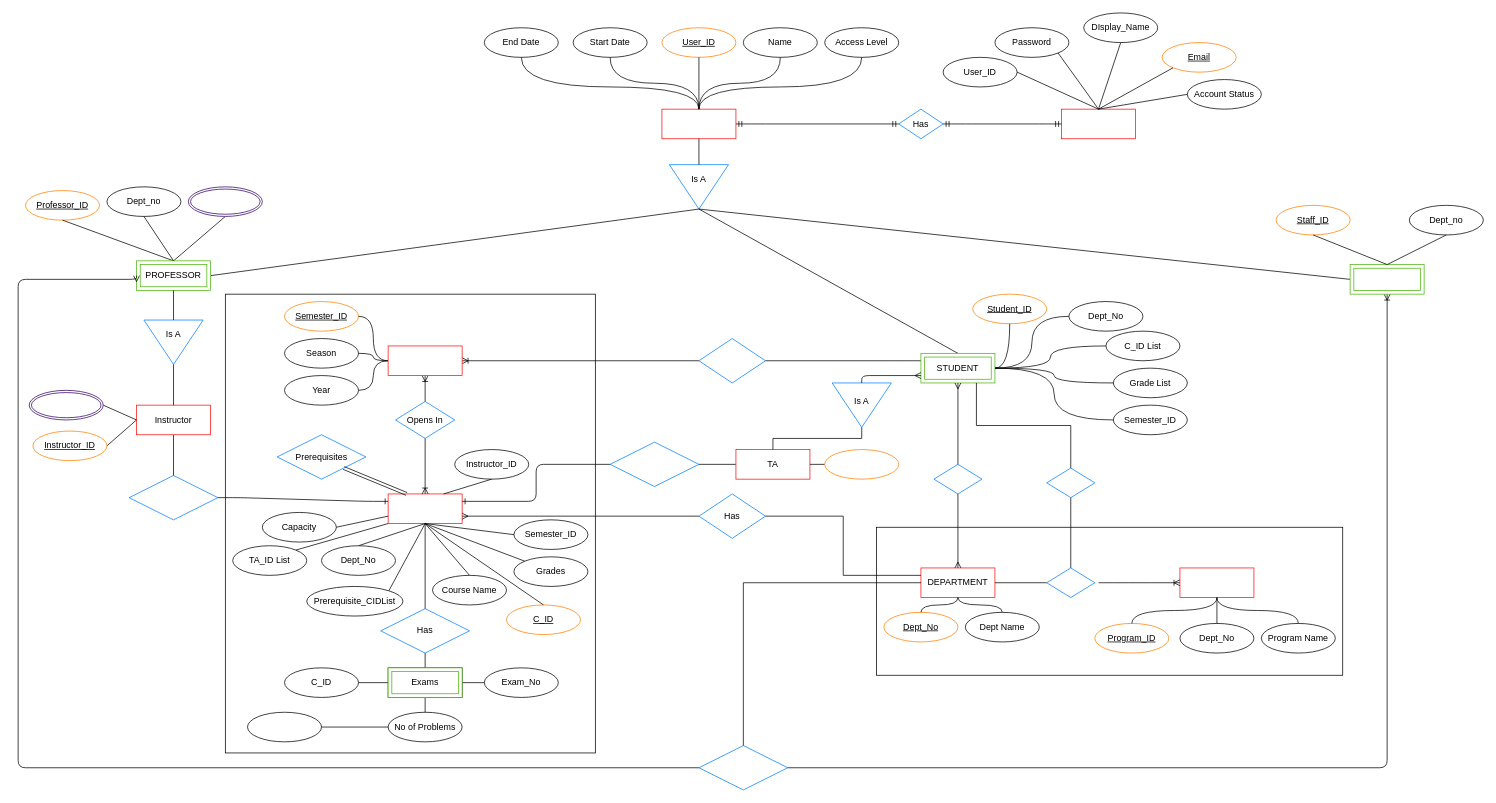
Some shapes in this 1496 by 803 pixel diagram are drawn without their labels. Here are the shapes that lost their labels. From the top down, the centre of each, then its label:
At pixel 698 123: "USER".
At pixel 1098 123: "ACCOUNT".
At pixel 225 201: "Feedback".
At pixel 1386 279: "STAFF".
At pixel 424 360: "Semester".
At pixel 732 360: "Registers".
At pixel 65 405: "Course_list".
At pixel 654 464: "Works".
At pixel 861 464: "TA_ID".
At pixel 957 479: "Majors".
At pixel 1070 482: "Opts For".
At pixel 173 497: "Teaches".
At pixel 424 508: "COURSE".
At pixel 1070 582: "Offers".
At pixel 1216 582: "PROGRAM".
At pixel 284 727: "Grades of Problems".
At pixel 743 767: "Is Hired By".
